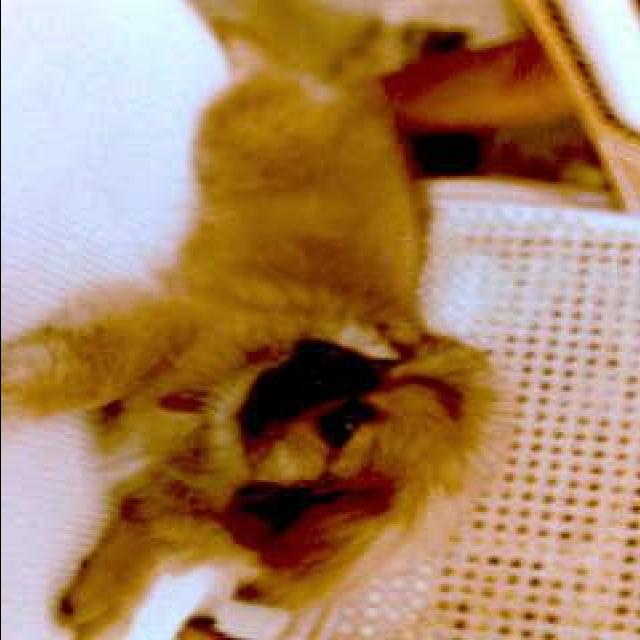pekinese: (2, 66, 512, 638)
